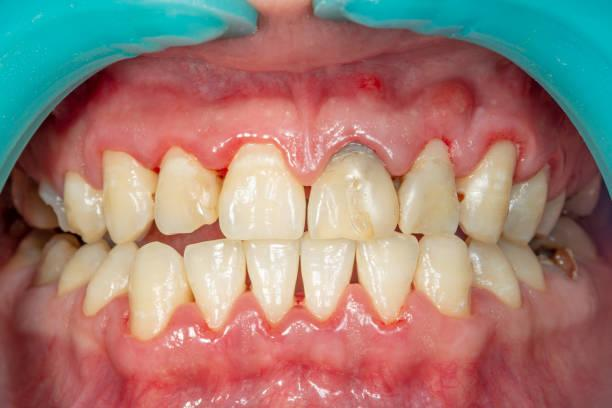Caries: (523, 230, 588, 282)
Gingivitis: (381, 81, 484, 139)
